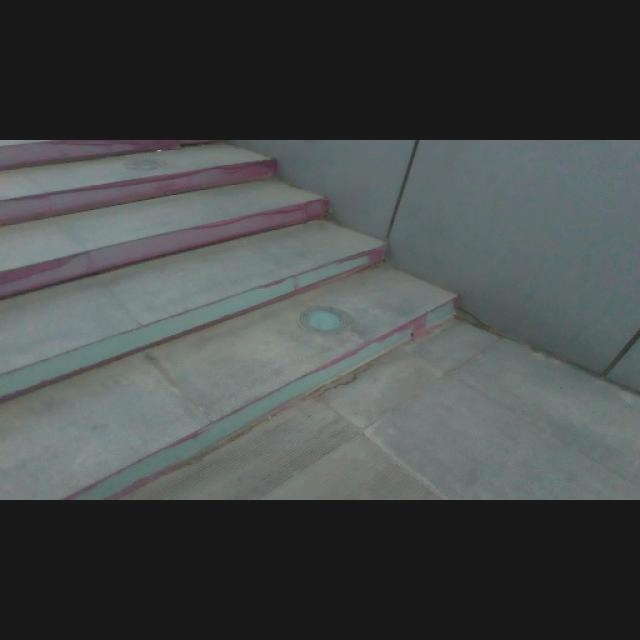stair: (1, 142, 403, 453)
